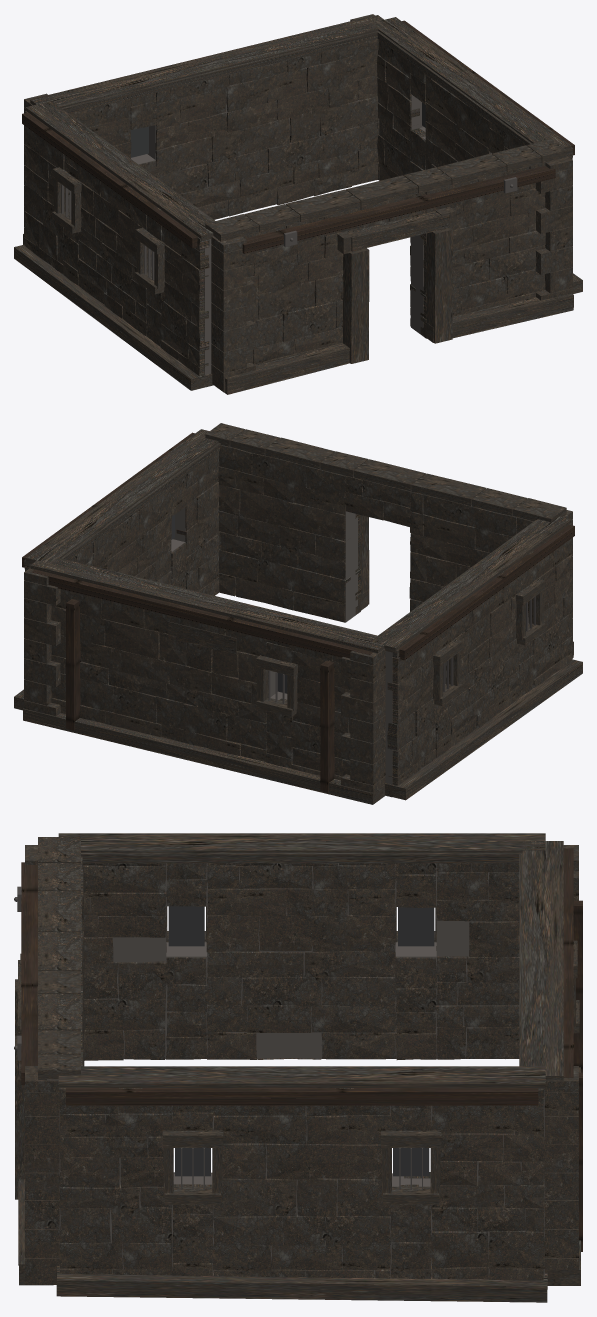
The model's file is blacksmith_four_walls_preview.glb.
The picture shows the model from 3 angles, top to bottom: view 1: azimuth 30°, elevation 25°; view 2: azimuth 150°, elevation 25°; view 3: azimuth 270°, elevation 25°; orthographic projection. The views are drawn at different scales.
Parts seen in each view (by area): view 1: GENESIS_BATCH_Quarry basalt / dark warm PBR, GENESIS_BATCH_Soot deposits - char and oxide, GENESIS_BATCH_Basalt - mineral warm variance, GENESIS_BATCH_Blackened ironstone coping / dark scanned, GENESIS_BATCH_Oak / fire seasoned PBR, GENESIS_BATCH_Recessed stone mortar / dark, GENESIS_BATCH_Oxidized forged iron, GENESIS_BATCH_Blacksmith · soot-stained grille backgroun; view 2: GENESIS_BATCH_Quarry basalt / dark warm PBR, GENESIS_BATCH_Soot deposits - char and oxide, GENESIS_BATCH_Blackened ironstone coping / dark scanned, GENESIS_BATCH_Basalt - mineral warm variance, GENESIS_BATCH_Oak / fire seasoned PBR, GENESIS_BATCH_Recessed stone mortar / dark, GENESIS_BATCH_Oxidized forged iron; view 3: GENESIS_BATCH_Quarry basalt / dark warm PBR, GENESIS_BATCH_Soot deposits - char and oxide, GENESIS_BATCH_Basalt - mineral warm variance, GENESIS_BATCH_Blackened ironstone coping / dark scanned, GENESIS_BATCH_Oak / fire seasoned PBR, GENESIS_BATCH_Recessed stone mortar / dark, GENESIS_BATCH_Blacksmith · soot-stained grille backgroun, GENESIS_BATCH_Oxidized forged iron.
Part boxes in pixels (left/top/right/bottom): GENESIS_BATCH_Quarry basalt / dark warm PBR: left=14, top=38, right=572, bottom=394; GENESIS_BATCH_Soot deposits - char and oxide: left=24, top=46, right=573, bottom=380; GENESIS_BATCH_Basalt - mineral warm variance: left=24, top=14, right=582, bottom=372; GENESIS_BATCH_Blackened ironstone coping / dark scanned: left=25, top=15, right=571, bottom=241; GENESIS_BATCH_Oak / fire seasoned PBR: left=22, top=16, right=574, bottom=253; GENESIS_BATCH_Recessed stone mortar / dark: left=68, top=64, right=491, bottom=374; GENESIS_BATCH_Oxidized forged iron: left=61, top=177, right=517, bottom=280; GENESIS_BATCH_Blacksmith · soot-stained grille backgroun: left=130, top=102, right=425, bottom=157; GENESIS_BATCH_Quarry basalt / dark warm PBR: left=23, top=445, right=582, bottom=804; GENESIS_BATCH_Soot deposits - char and oxide: left=24, top=451, right=573, bottom=780; GENESIS_BATCH_Blackened ironstone coping / dark scanned: left=25, top=423, right=571, bottom=653; GENESIS_BATCH_Basalt - mineral warm variance: left=14, top=467, right=572, bottom=785; GENESIS_BATCH_Oak / fire seasoned PBR: left=22, top=432, right=574, bottom=792; GENESIS_BATCH_Recessed stone mortar / dark: left=29, top=477, right=563, bottom=797; GENESIS_BATCH_Oxidized forged iron: left=268, top=596, right=535, bottom=703; GENESIS_BATCH_Quarry basalt / dark warm PBR: left=15, top=846, right=580, bottom=1285; GENESIS_BATCH_Soot deposits - char and oxide: left=18, top=863, right=578, bottom=1280; GENESIS_BATCH_Basalt - mineral warm variance: left=15, top=845, right=578, bottom=1302; GENESIS_BATCH_Blackened ironstone coping / dark scanned: left=38, top=833, right=563, bottom=1090; GENESIS_BATCH_Oak / fire seasoned PBR: left=21, top=848, right=582, bottom=1251; GENESIS_BATCH_Recessed stone mortar / dark: left=47, top=863, right=544, bottom=1276; GENESIS_BATCH_Blacksmith · soot-stained grille backgroun: left=168, top=906, right=434, bottom=1176; GENESIS_BATCH_Oxidized forged iron: left=14, top=886, right=422, bottom=1189.
Size of the model in its own units: 8.91 by 3.4 by 8.08.
9 materials, 6 textured.
